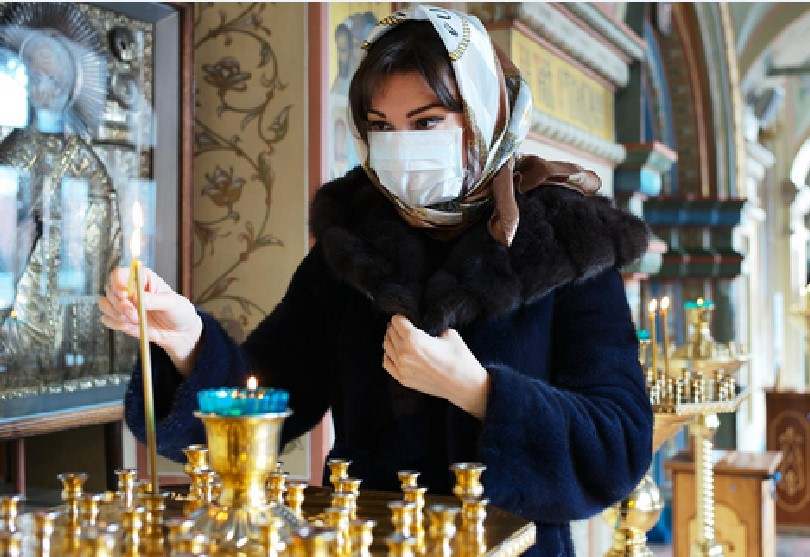face_with_mask: (352, 9, 500, 210)
